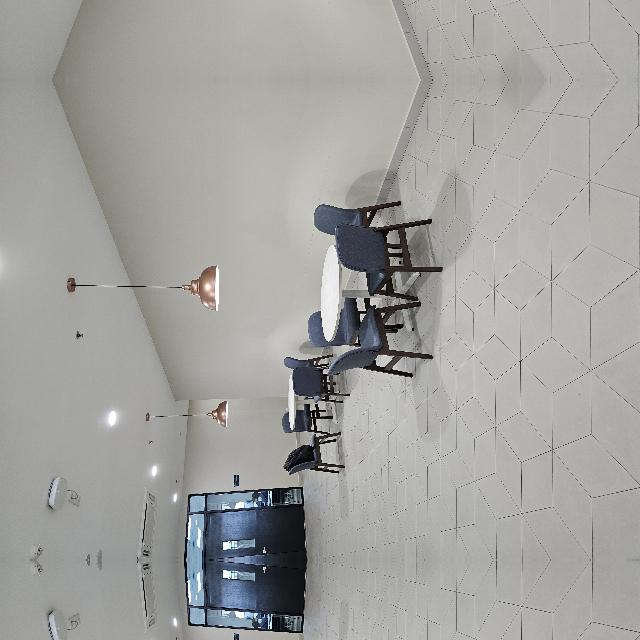obstacle: (185, 383, 359, 521), (185, 599, 359, 640)
